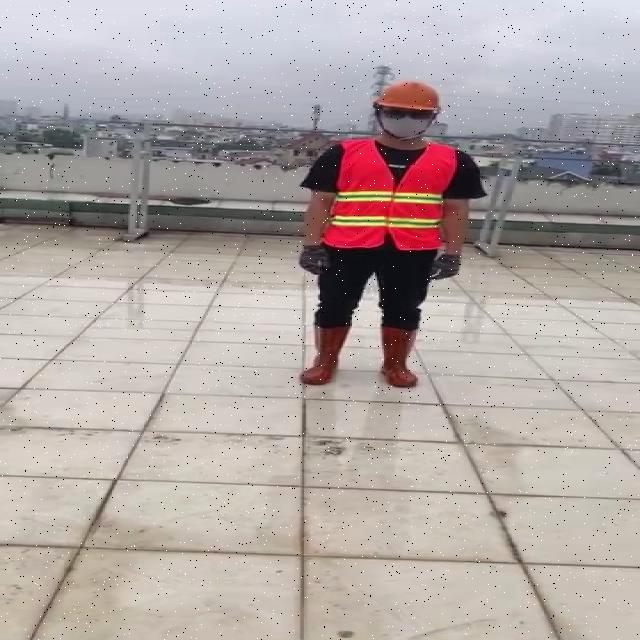Hard_hat: (369, 79, 451, 112)
Vest: (324, 137, 452, 254)
